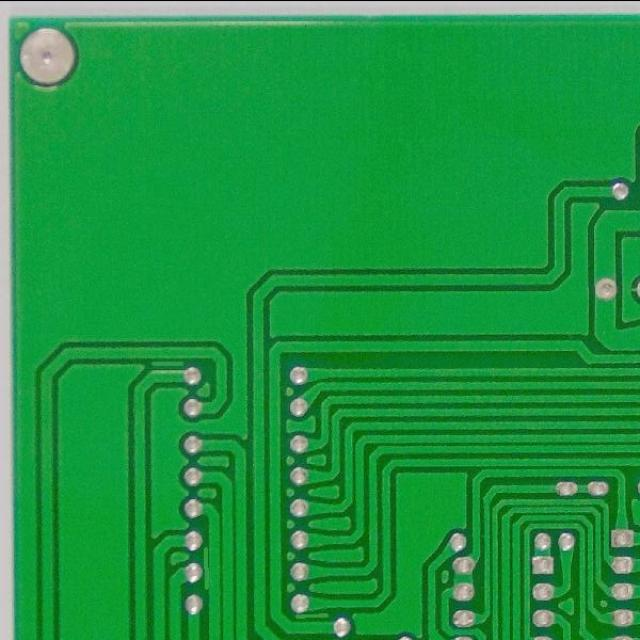Spurious_Cooper: (291, 609, 332, 622), (148, 357, 187, 370), (202, 543, 211, 595)
